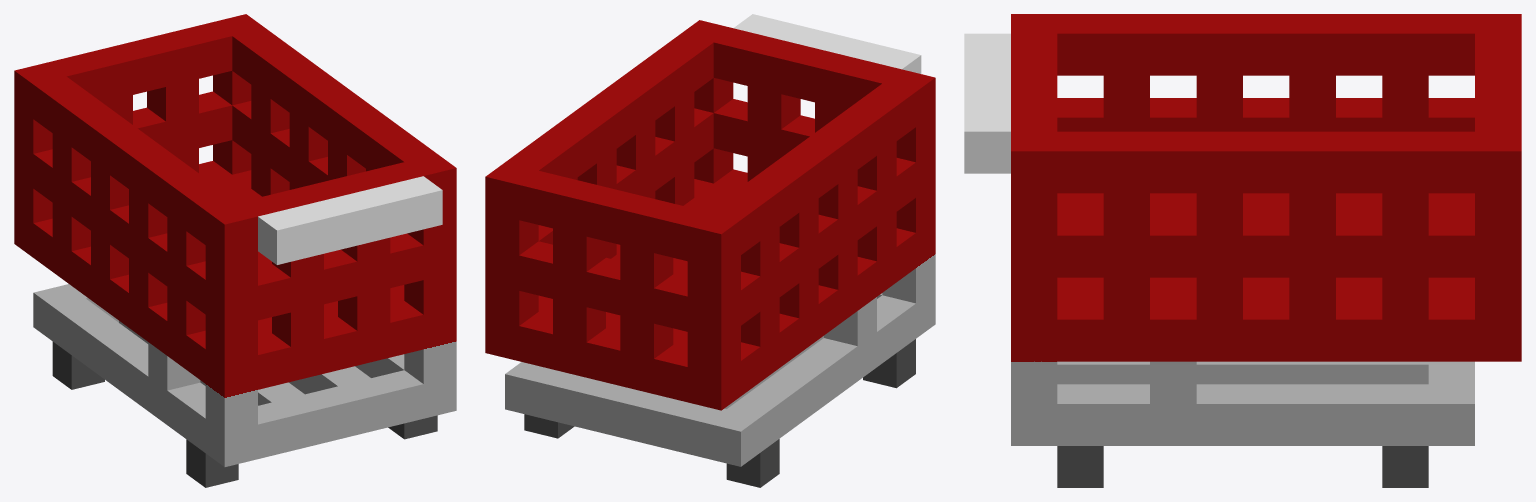
Rendered from obj_cart2.fbx.
The picture shows the model from 3 angles, left to right: view 1: azimuth 30°, elevation 25°; view 2: azimuth 150°, elevation 25°; view 3: azimuth 270°, elevation 25°; orthographic projection. The views are drawn at different scales.
Parts seen in each view (by area): view 1: obj_cart2; view 2: obj_cart2; view 3: obj_cart2.
Boxes of the visible parts, left/top/right/bottom form: obj_cart2: left=14, top=14, right=456, bottom=487; obj_cart2: left=485, top=14, right=935, bottom=487; obj_cart2: left=964, top=14, right=1521, bottom=487.
Bounding box in the file's own units: 0.7 × 1.2 × 0.8.
1 material, 1 textured.
